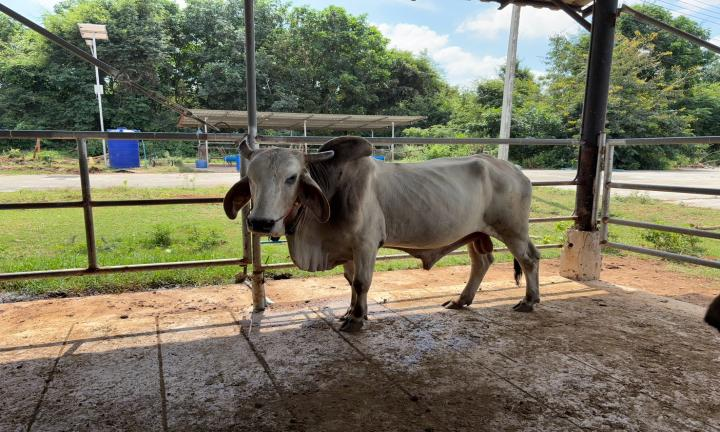Brahman: (223, 136, 540, 331)
